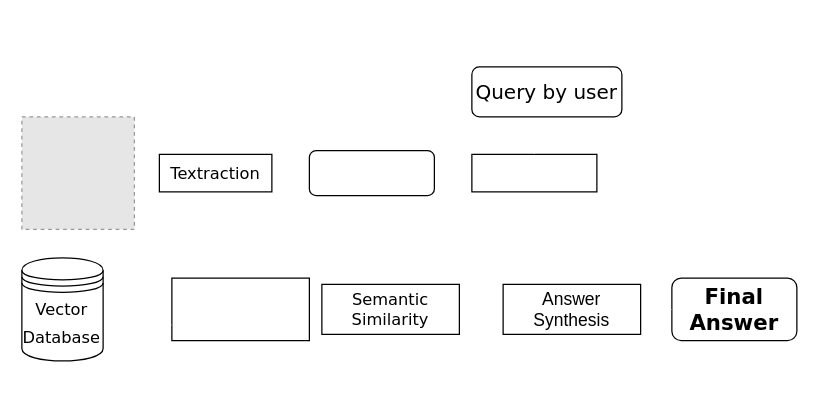
Some shapes in this 819 by 398 pixel diagram are drawn without their labels. Grey dashed boxes stand in for pictures. The box of each missing label's shape, as (x1, y1, x2, y2) in pixels:
Preprocessing: (471, 153, 597, 192)
Text Data: (308, 149, 434, 196)
Vectorization: (171, 277, 309, 341)
